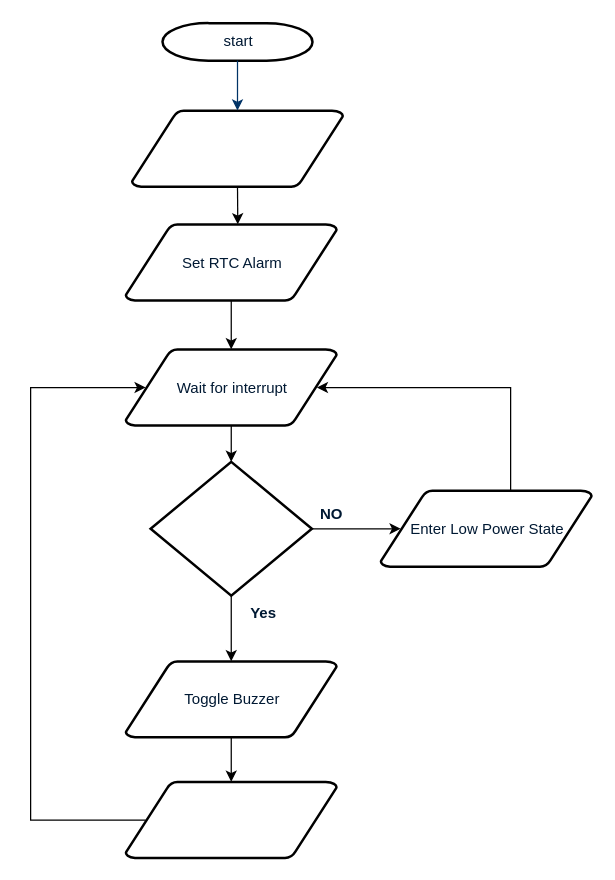
Some shapes in this 615 by 880 pixel diagram are drawn without their labels. Each missing label, with the centre of its shape:
"Initialize RTC" belongs at (x=237, y=148).
"Interrupt recived?" belongs at (x=230, y=528).
"Reset Alarm" belongs at (x=231, y=819).
